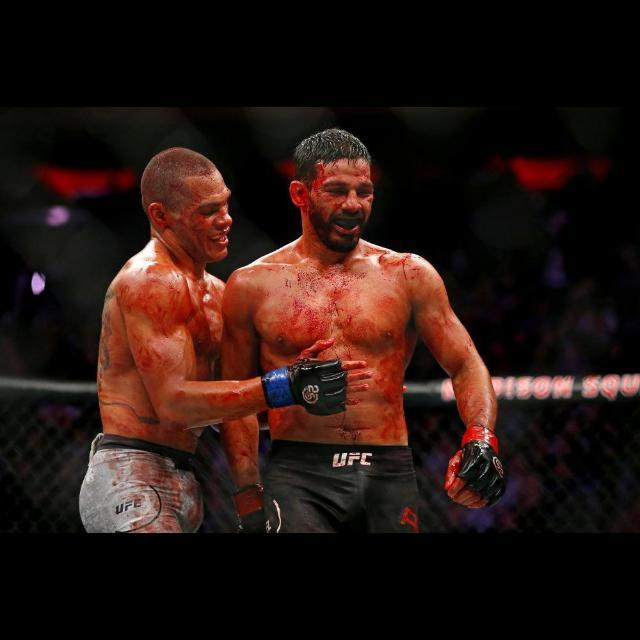blood: (319, 239, 498, 446), (269, 273, 418, 447), (301, 158, 374, 253), (174, 170, 232, 269), (132, 279, 192, 334), (202, 385, 267, 408)
